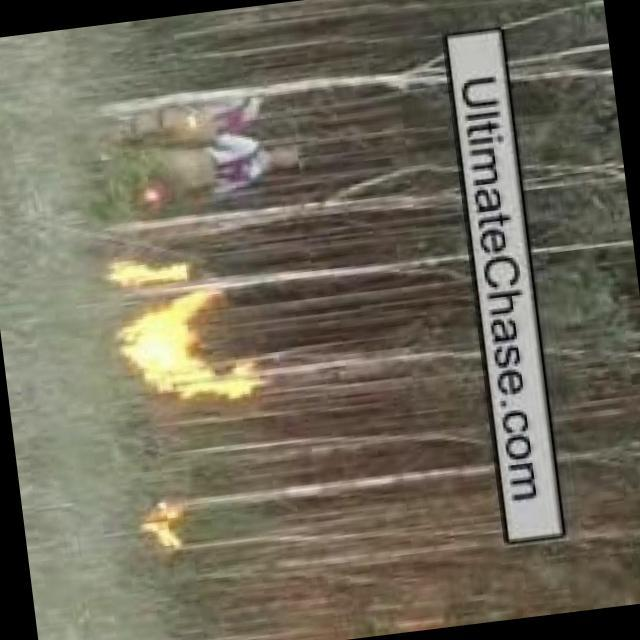Fire: (114, 292, 243, 418), (133, 502, 190, 563), (104, 255, 187, 292)
